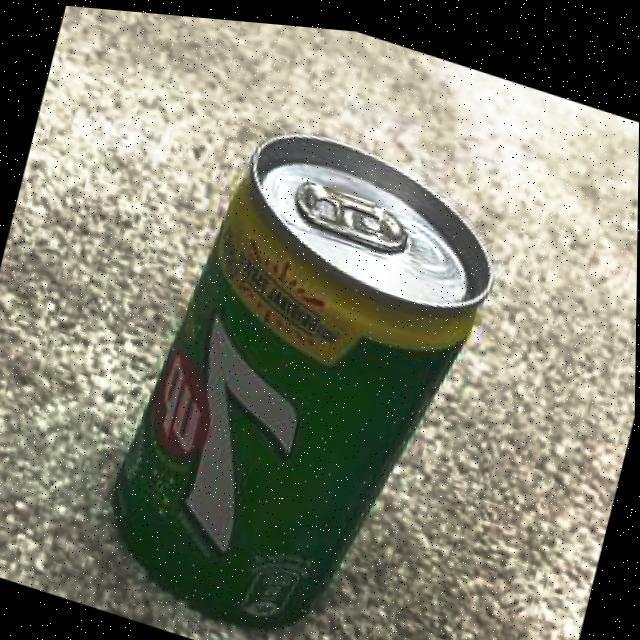Lata: (111, 136, 493, 632)
